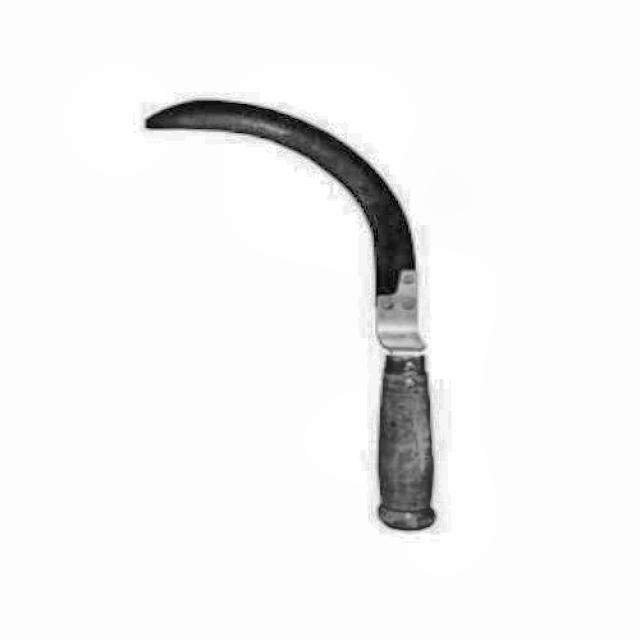celurit: (144, 67, 468, 547)
